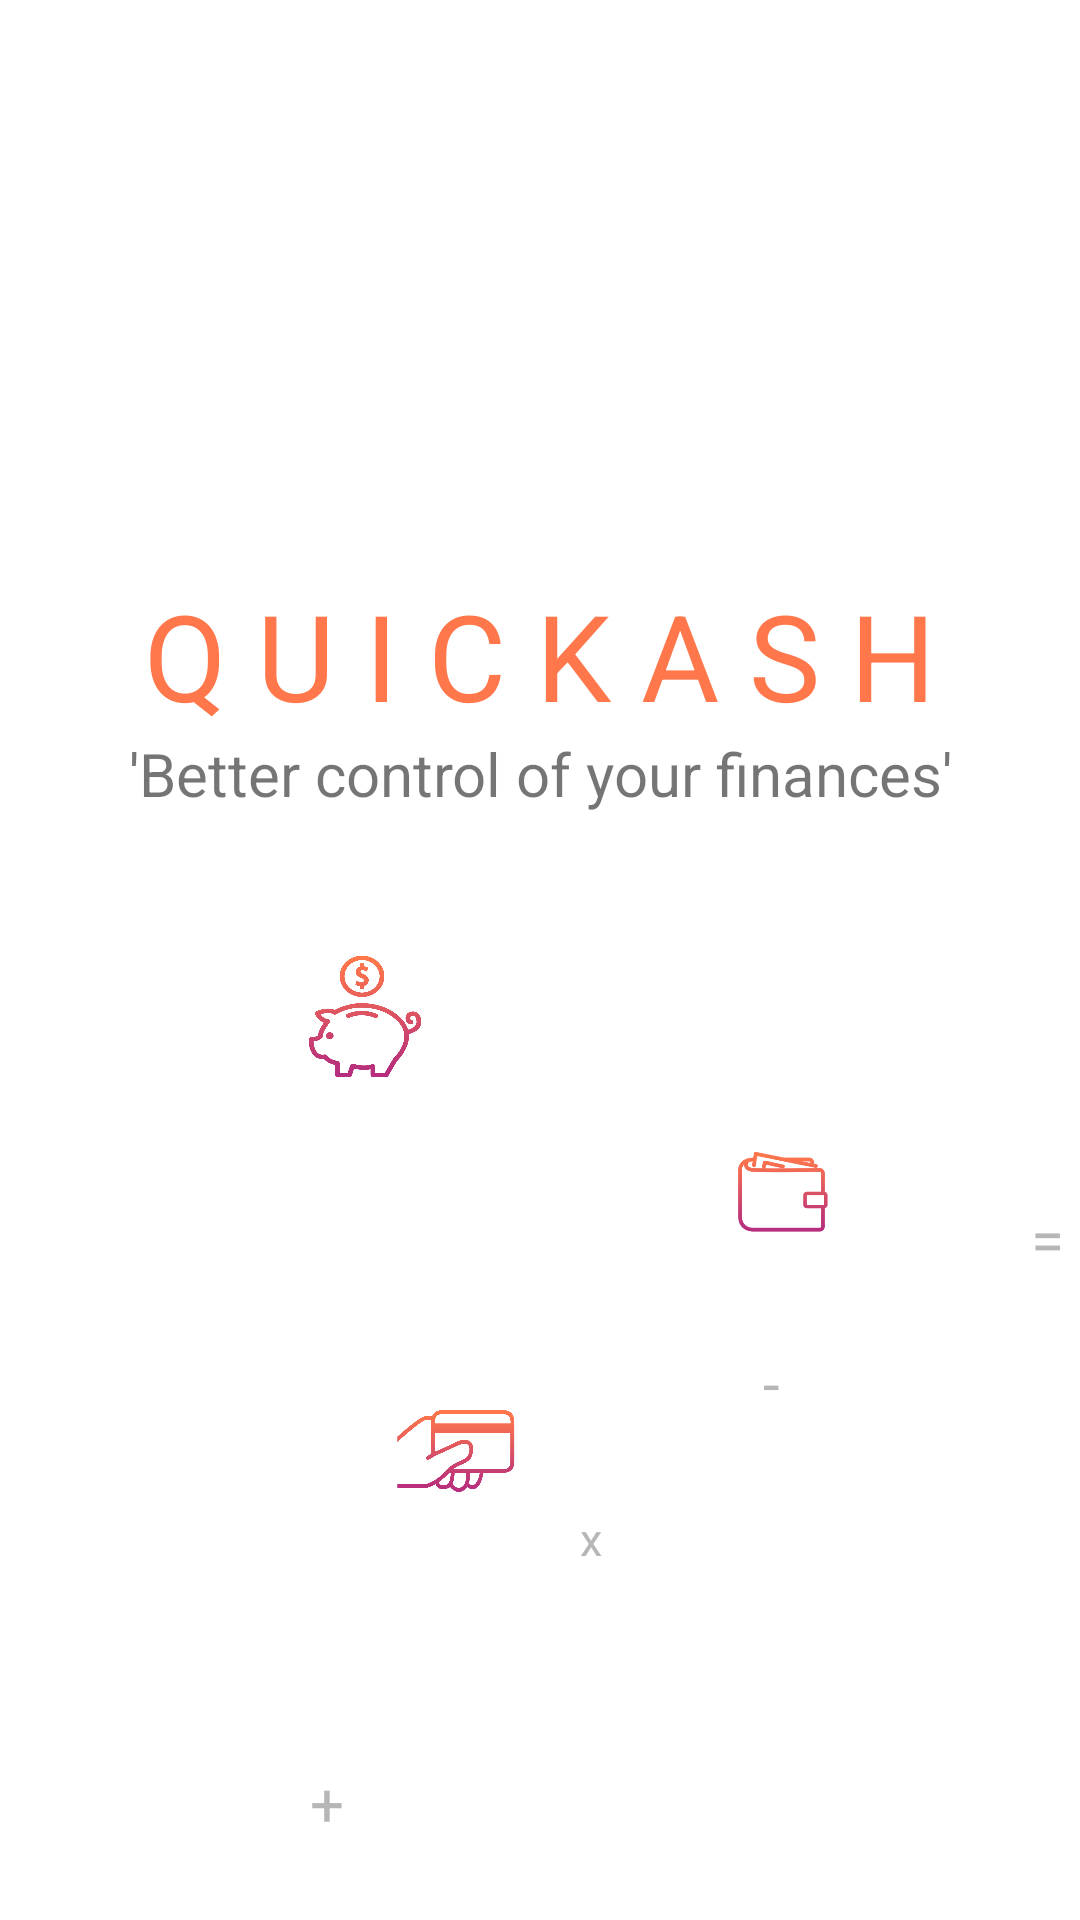

Icons on this 1080*1920 Android screen, each with its box as (x1, y1, x2, y2):
atm: (397, 1410, 514, 1492)
pig: (309, 956, 421, 1077)
wallet: (738, 1152, 828, 1232)
